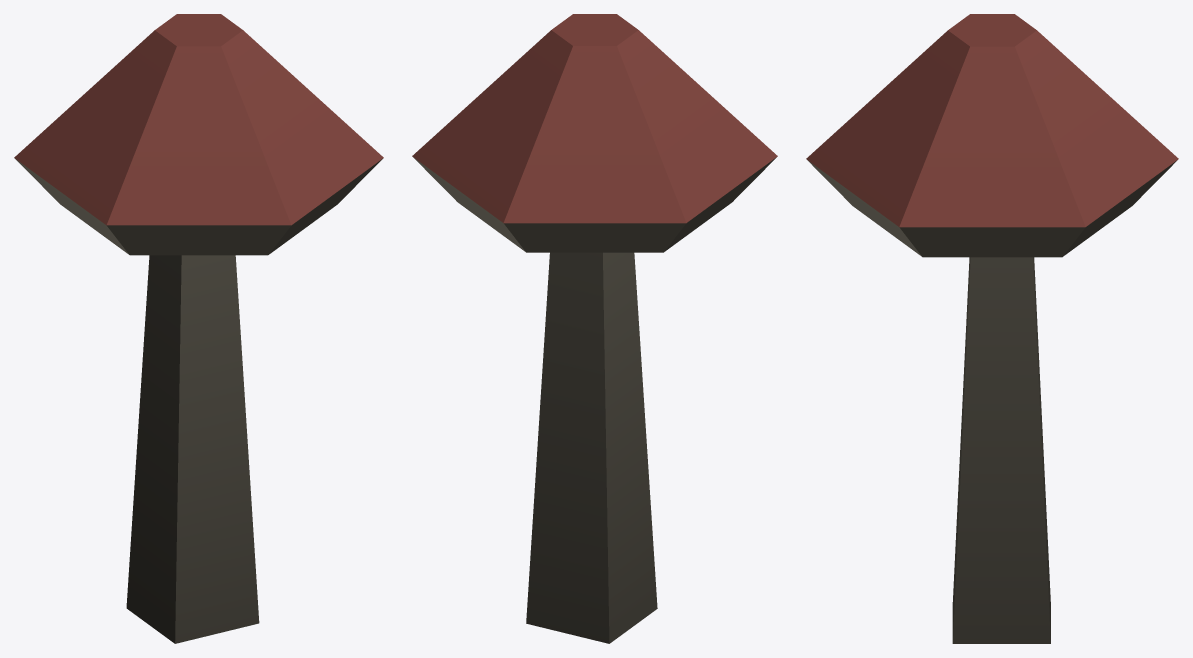
Rendered from pilz_rot_hoch.glb.
3 renders of one model, left to right at view 1: azimuth 30°, elevation 25°; view 2: azimuth 150°, elevation 25°; view 3: azimuth 270°, elevation 25°, orthographic.
Visible parts, largest first — view 1: pilz_rot_hoch; view 2: pilz_rot_hoch; view 3: pilz_rot_hoch.
Part boxes in pixels (x1,y1,x2,y2): pilz_rot_hoch: [14, 14, 383, 643]; pilz_rot_hoch: [412, 14, 777, 643]; pilz_rot_hoch: [806, 14, 1178, 643].
Bounding box in the file's own units: 0.1282 × 0.26 × 0.148.
